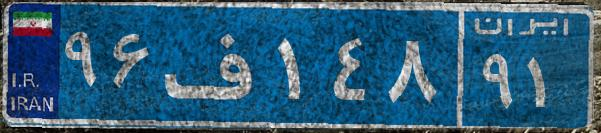1: (273, 28, 330, 110), (525, 38, 570, 115)
4: (330, 28, 385, 110)
6: (110, 28, 158, 105)
8: (385, 28, 445, 110)
9: (57, 26, 110, 107), (475, 38, 525, 113)
ف: (158, 15, 273, 115)
